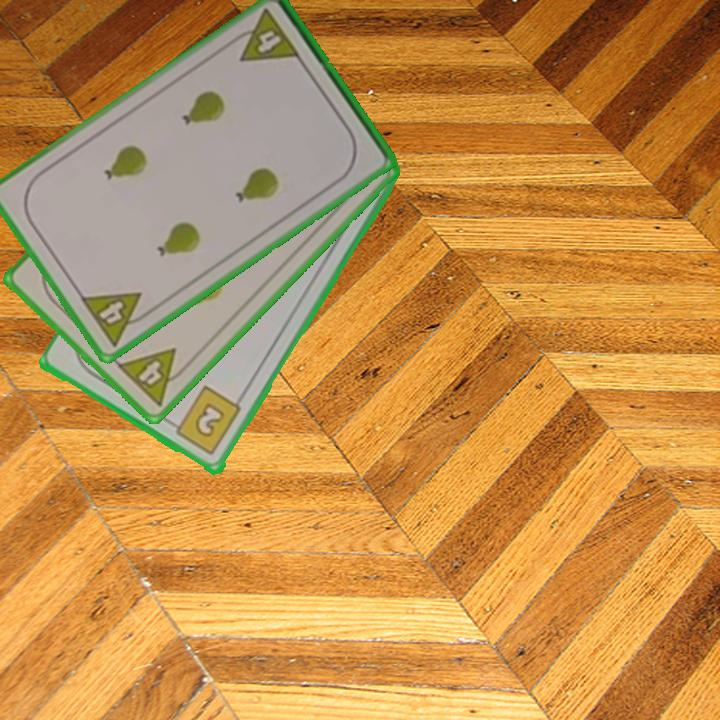2b: (165, 383, 245, 459)
4p: (113, 344, 194, 410), (76, 288, 156, 350), (226, 5, 303, 66)
